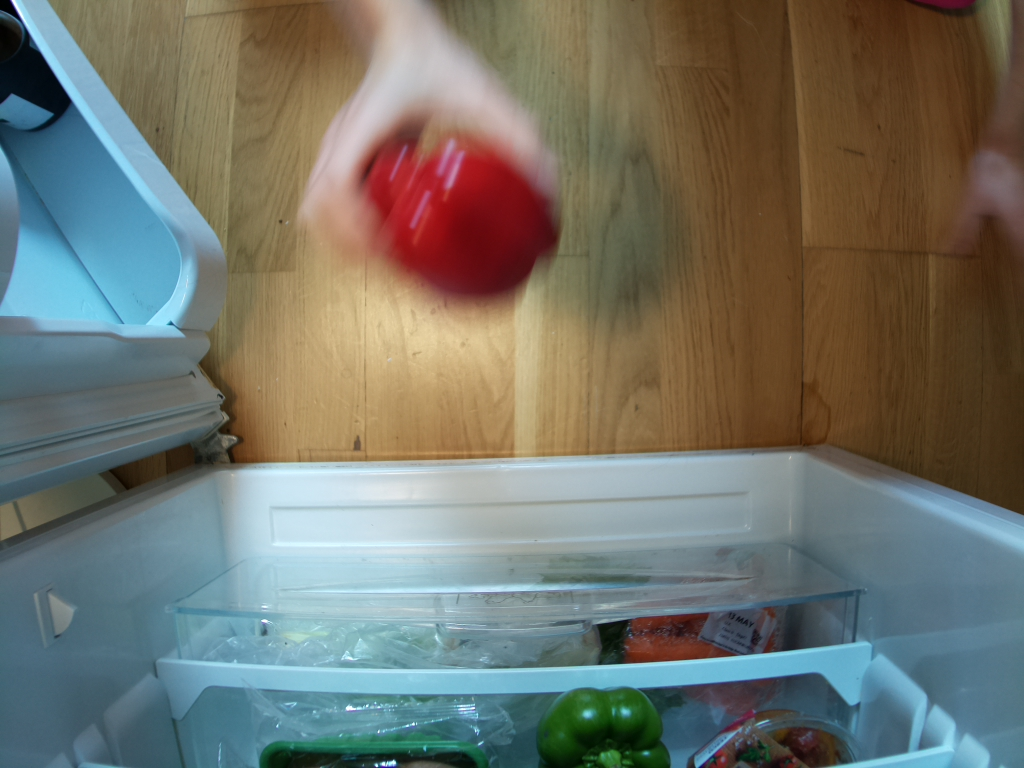pepper: (372, 136, 559, 299), (539, 683, 673, 768)
